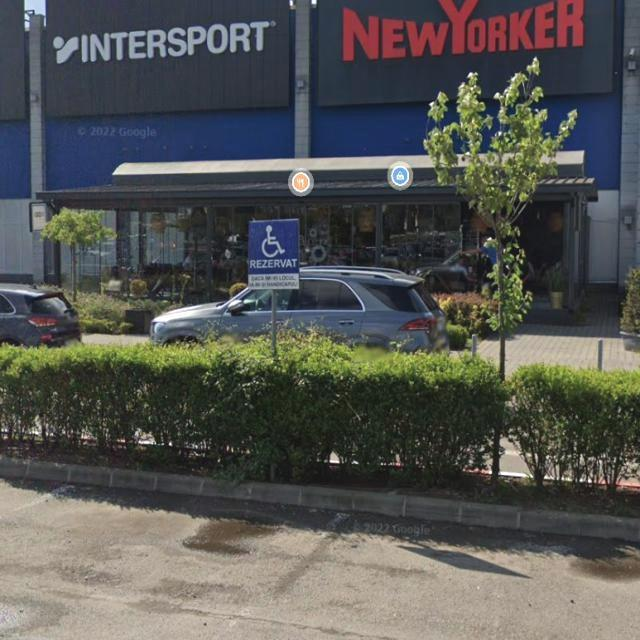symbol_of_access: (243, 215, 301, 272)
